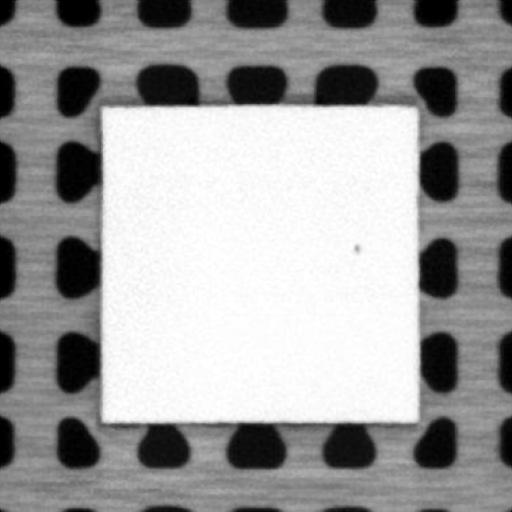DIE_INK: (351, 239, 360, 253)
